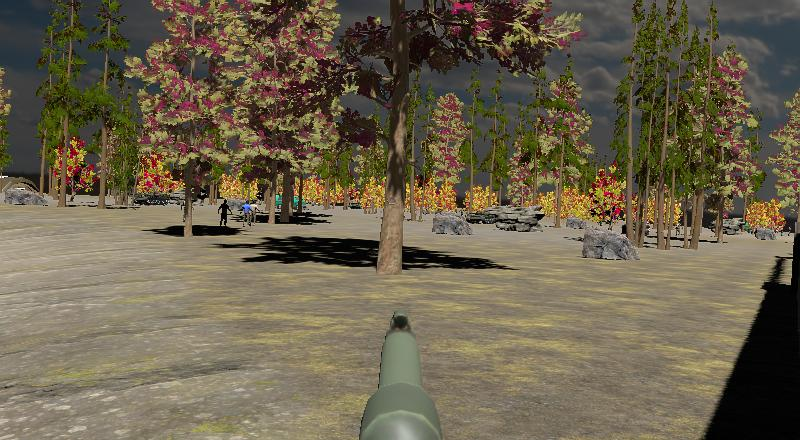Human: (217, 199, 232, 228), (240, 199, 252, 227)
Tank: (133, 190, 172, 207)
car: (273, 193, 312, 212)
